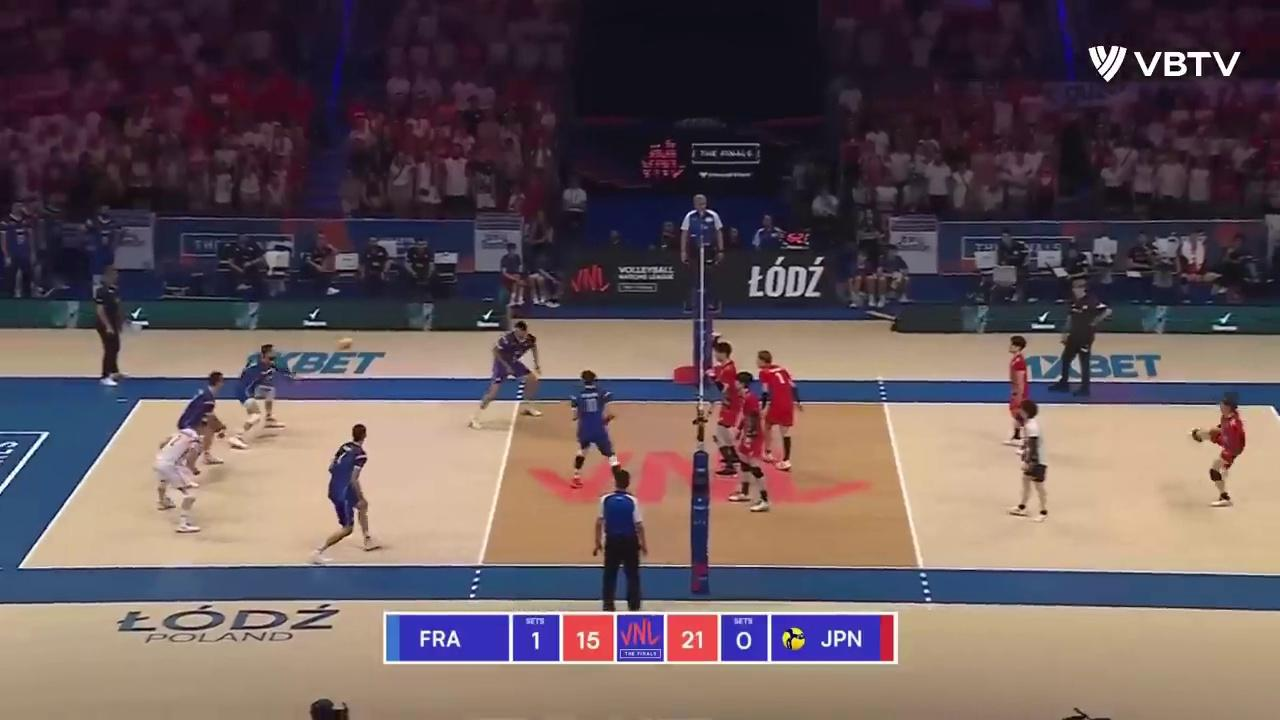ball: (339, 338, 353, 351)
